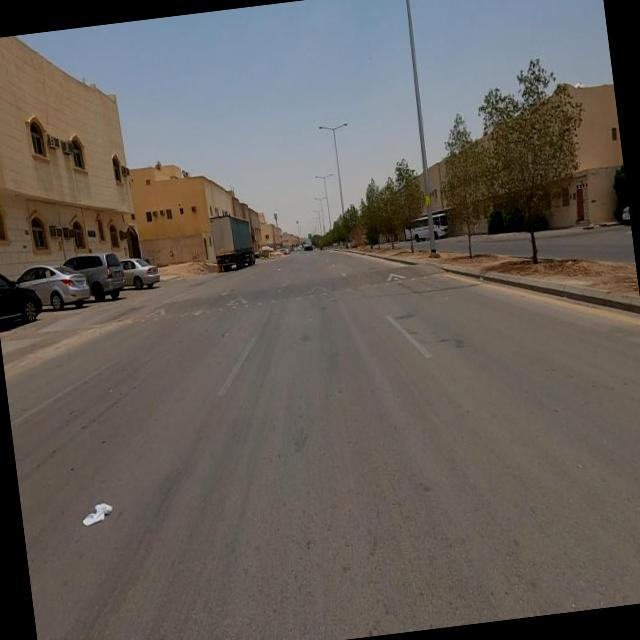debris: (56, 461, 146, 566)
